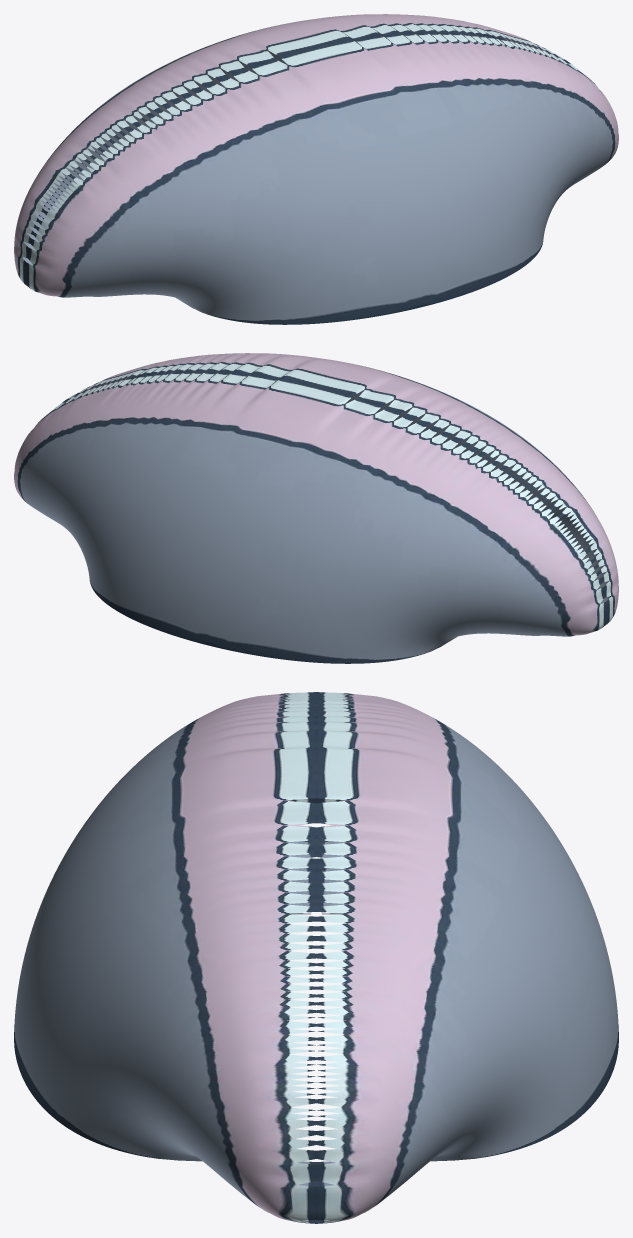
The model's file is rim_bulkhead.glb.
3 views of the same model, one above another, from view 1: azimuth 30°, elevation 25°; view 2: azimuth 150°, elevation 25°; view 3: azimuth 270°, elevation 25° (orthographic). The views are drawn at different scales.
Parts seen in each view (by area): view 1: rim_bulkhead; view 2: rim_bulkhead; view 3: rim_bulkhead.
Part boxes in pixels (bbox=[...]): rim_bulkhead: bbox=[14, 14, 618, 324]; rim_bulkhead: bbox=[14, 353, 618, 663]; rim_bulkhead: bbox=[14, 692, 618, 1223].
Bounding box in the file's own units: 0.9891 × 0.2989 × 0.6164.
1 material, 1 textured.
